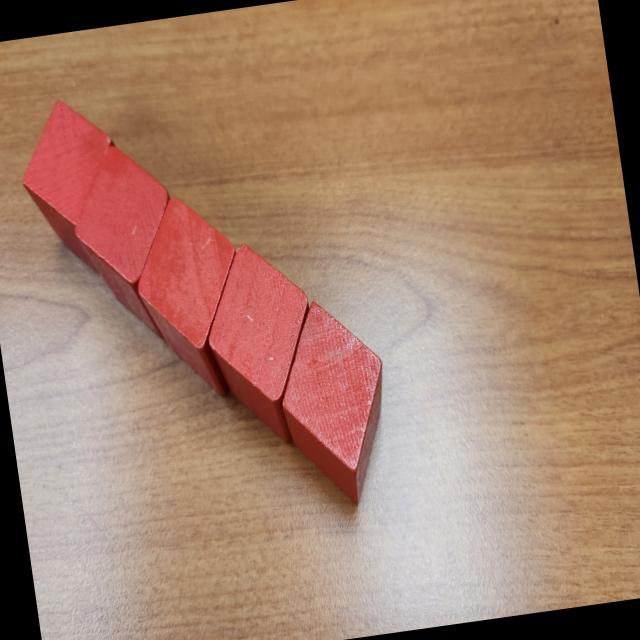red: (268, 292, 402, 514), (194, 236, 328, 455), (126, 188, 256, 408), (63, 140, 188, 350), (12, 92, 134, 281)
